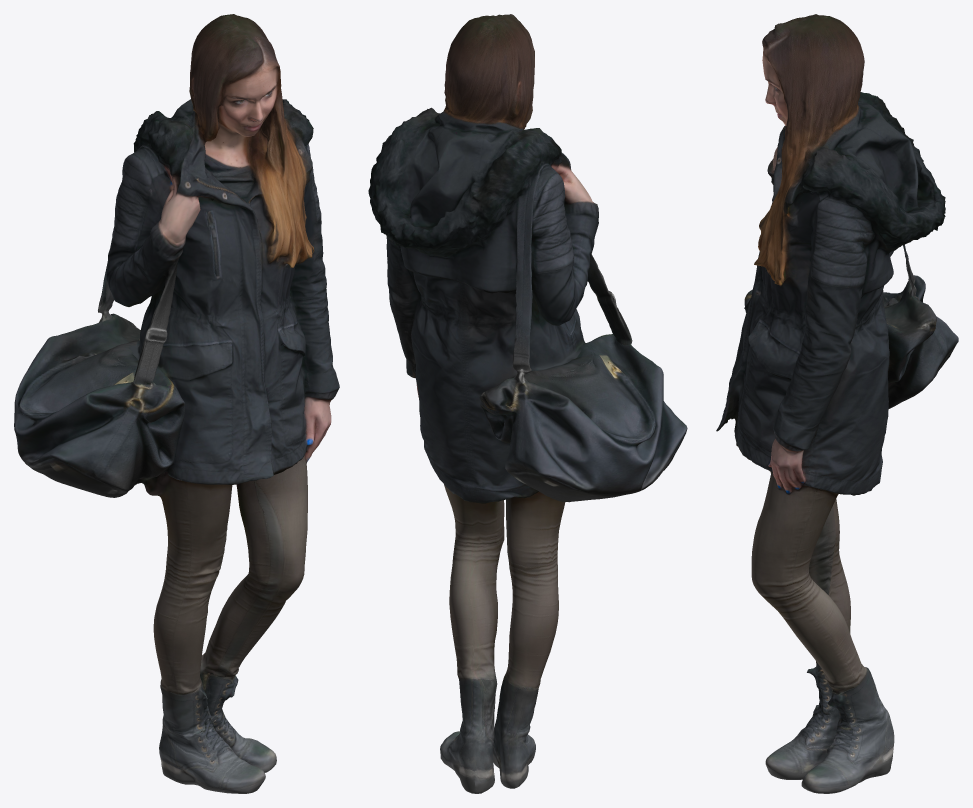
The model's file is Girl.fbx.
3 renders of one model, left to right at view 1: azimuth 30°, elevation 25°; view 2: azimuth 150°, elevation 25°; view 3: azimuth 270°, elevation 25°, orthographic. The views are drawn at different scales.
Visible parts, largest first — view 1: Scan-19.Shape; view 2: Scan-19.Shape; view 3: Scan-19.Shape.
Boxes of the visible parts, x1=… form: Scan-19.Shape: x1=14, y1=14, x2=339, y2=793; Scan-19.Shape: x1=368, y1=14, x2=687, y2=793; Scan-19.Shape: x1=716, y1=14, x2=958, y2=793.
Size of the model in its own units: 69.44 by 177 by 50.97.
Materials: 1 (1 with a texture image).
